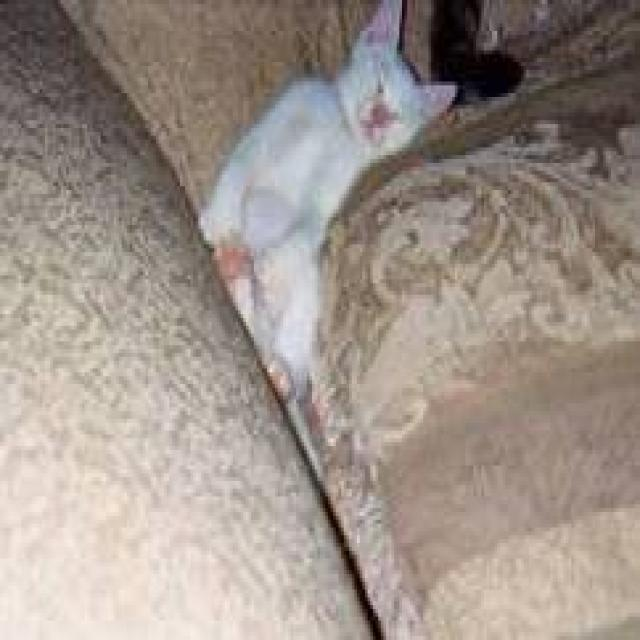cat: (195, 0, 458, 419)
